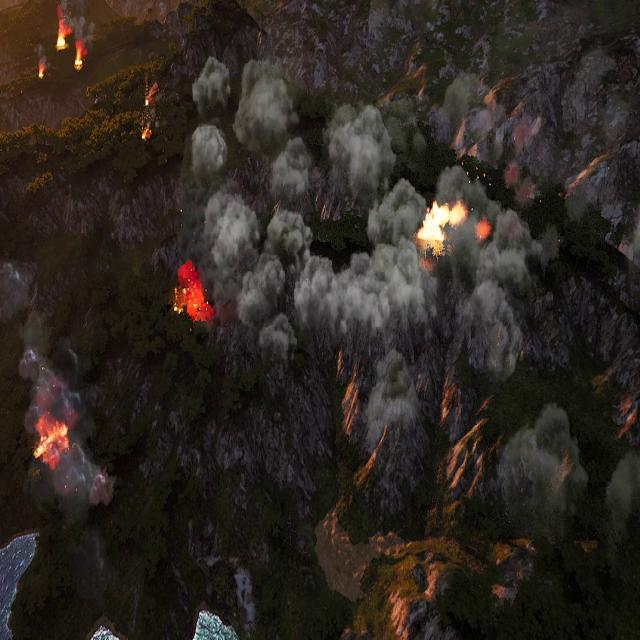fire: (173, 262, 212, 325), (419, 201, 468, 248), (33, 415, 69, 470), (144, 81, 158, 106), (74, 43, 85, 70), (58, 35, 68, 49), (142, 127, 150, 140), (36, 65, 42, 80)
smoke: (184, 56, 444, 363), (15, 315, 111, 591), (496, 400, 638, 526), (467, 200, 558, 381), (56, 0, 94, 48), (476, 220, 492, 243)
